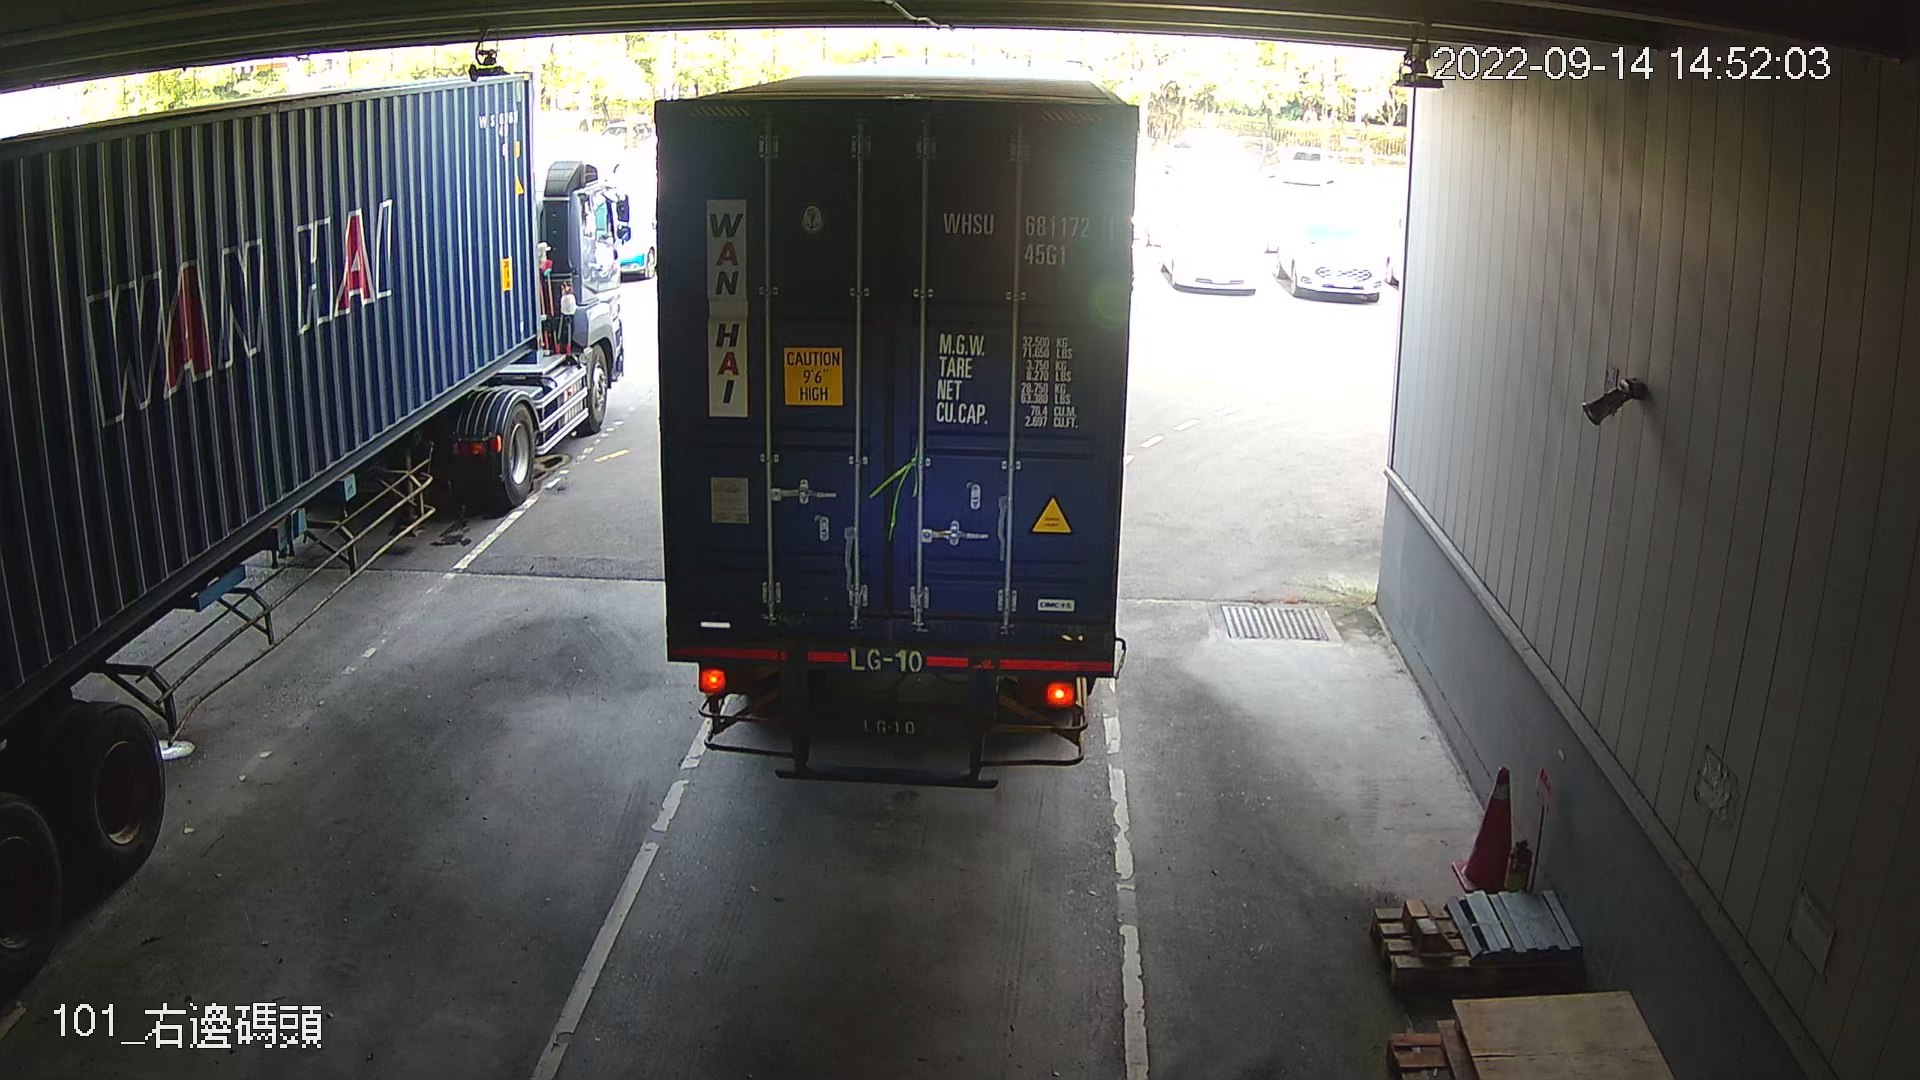container: (938, 200, 1125, 274)
